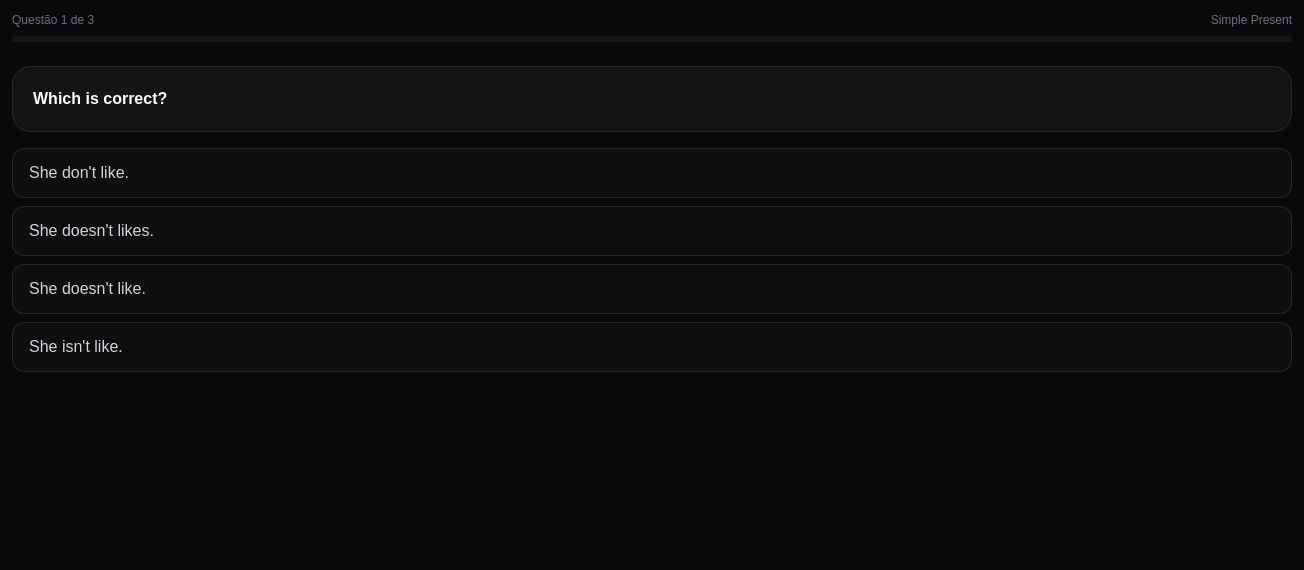
Test: QuizClient › exibe melhor pontuação anterior quando passada
Click the button "She doesn't like.": (87, 288) 12,264 -> 1292,314
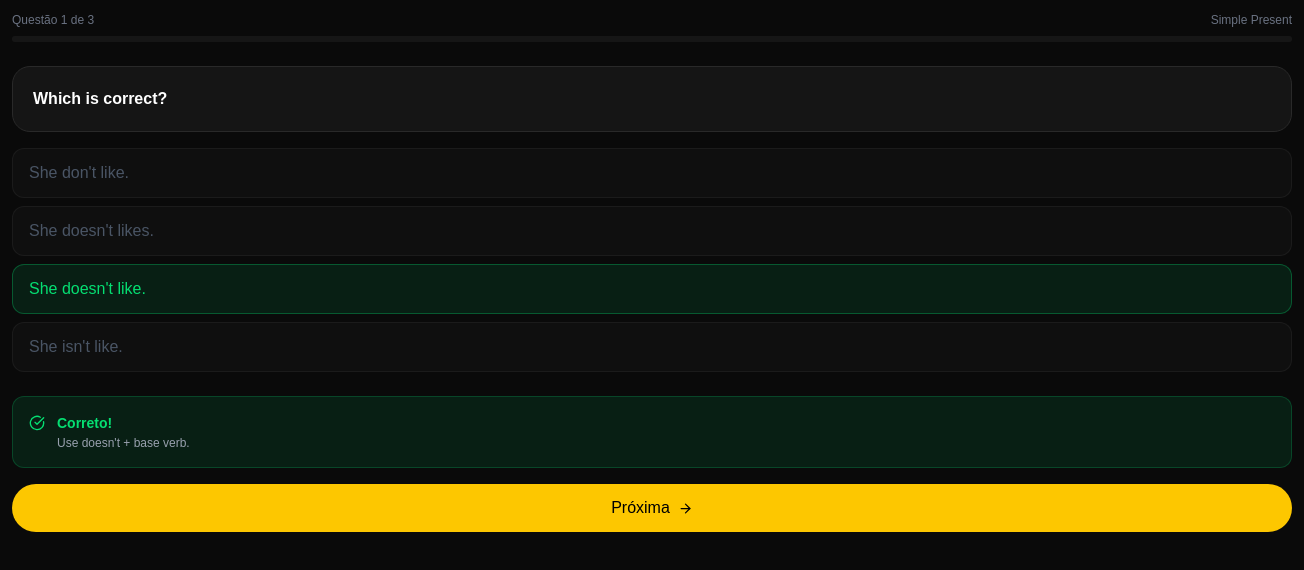
Click the button "Próxima": (652, 508) 12,484 -> 1292,532
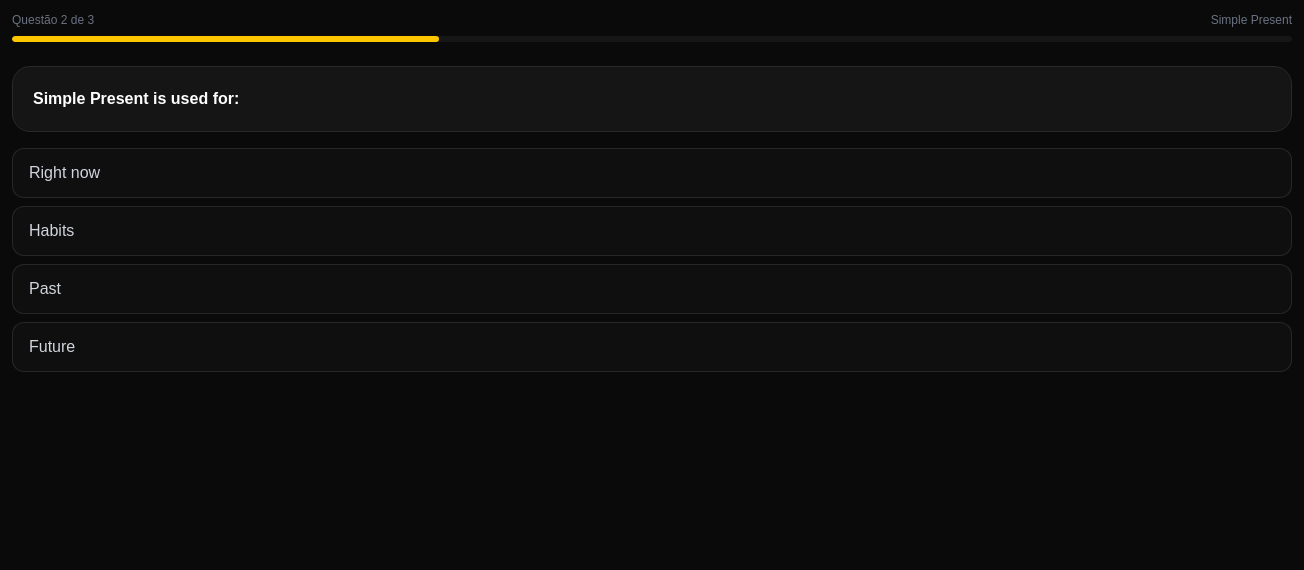
Click the button "Habits": (52, 230) 12,206 -> 1292,256
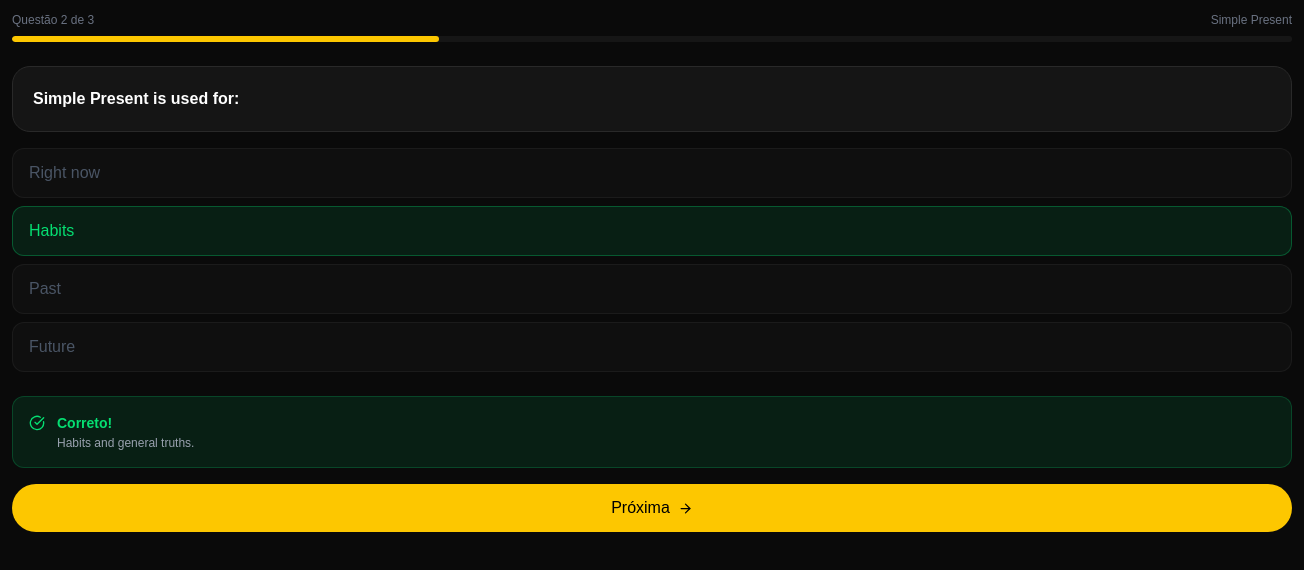
Click the button "Próxima": (652, 508) 12,484 -> 1292,532
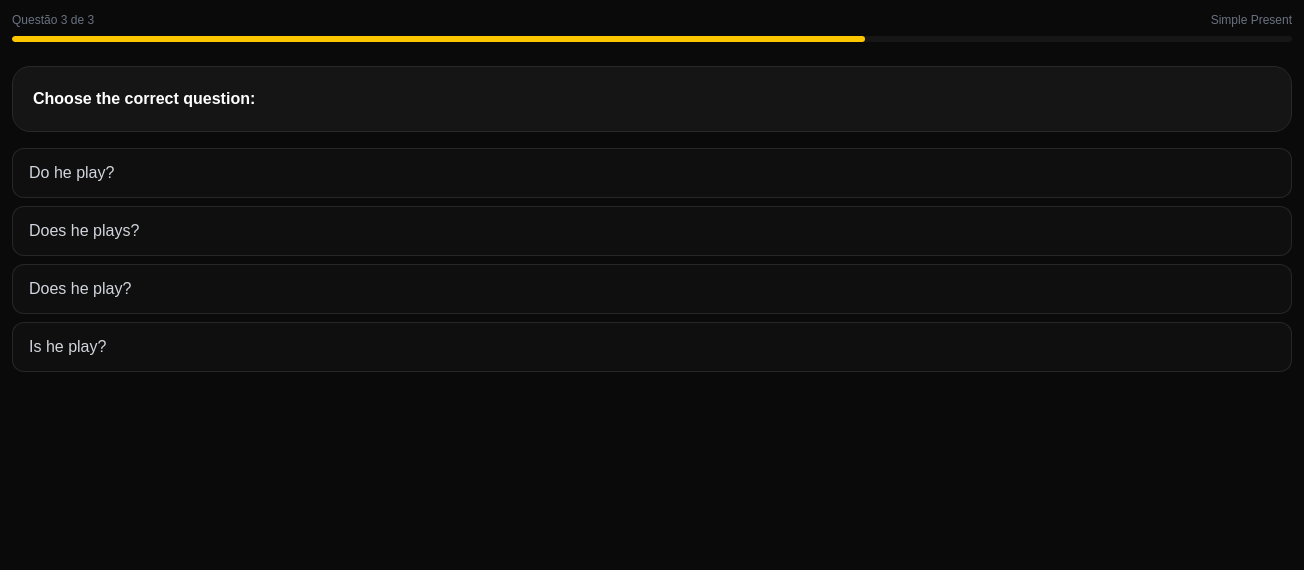
Click the button "Does he play?": (80, 288) 12,264 -> 1292,314
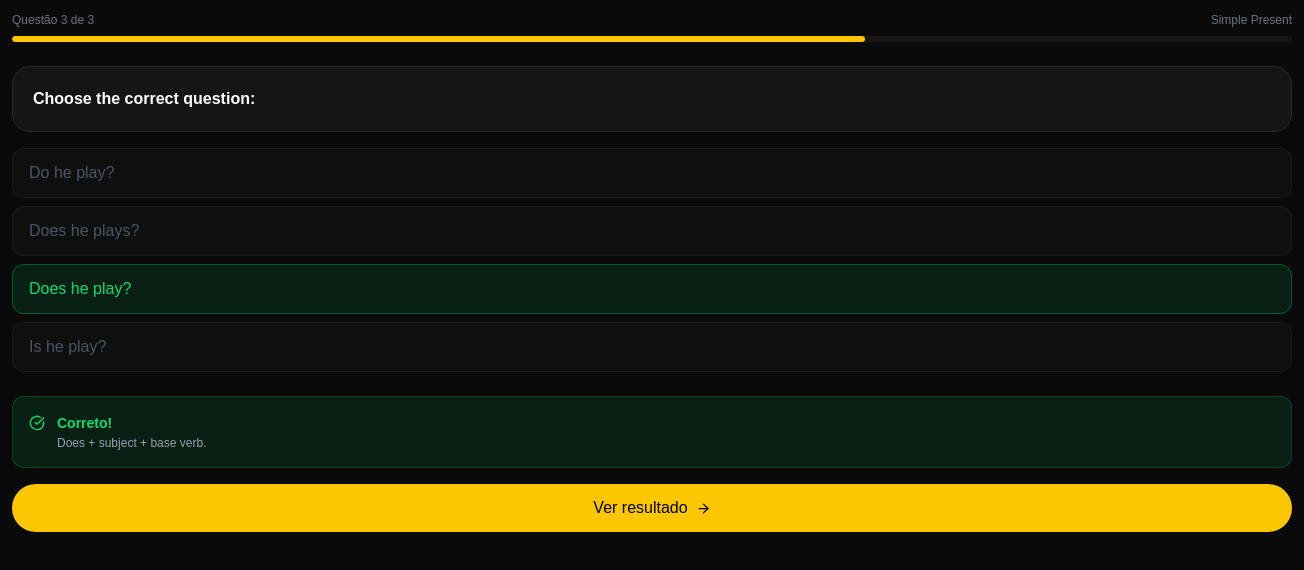
Click the button "Ver resultado": (652, 508) 12,484 -> 1292,532
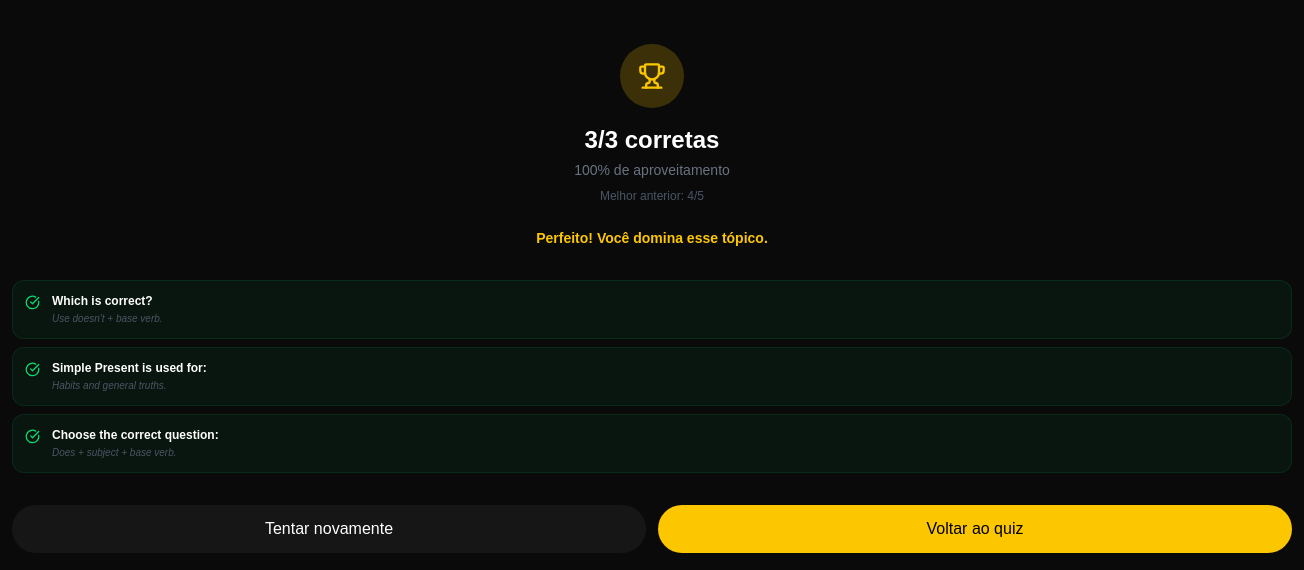
Result: the text "Melhor anterior: 4/5" is shown at 600,189 -> 704,203
